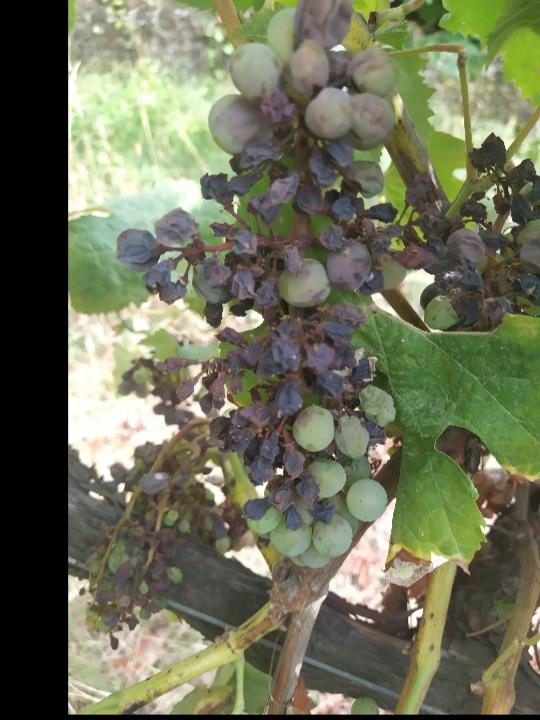grape: (112, 0, 413, 572), (391, 129, 540, 336)
